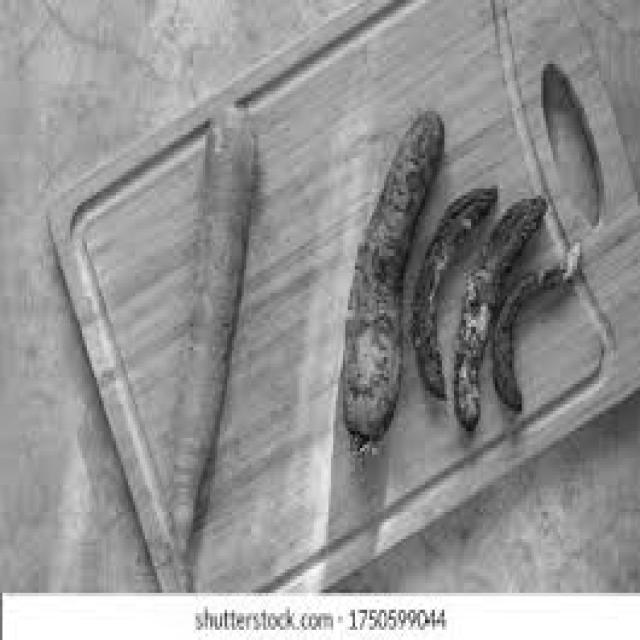Stale_Carrot: (345, 112, 444, 405)
